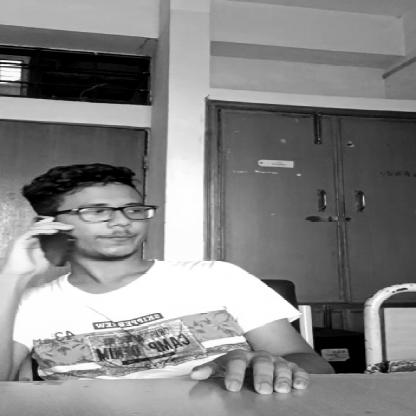Distracted: (58, 153, 153, 260)
